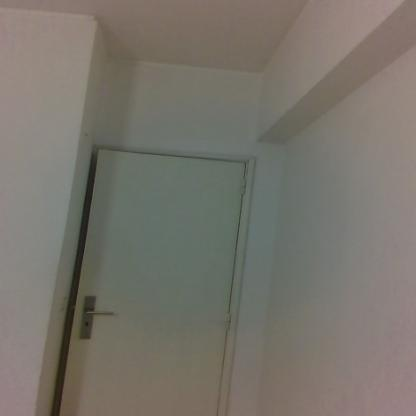door: (85, 150, 233, 416)
hinged: (223, 311, 234, 331), (238, 176, 248, 197)
lever: (87, 308, 119, 318)
